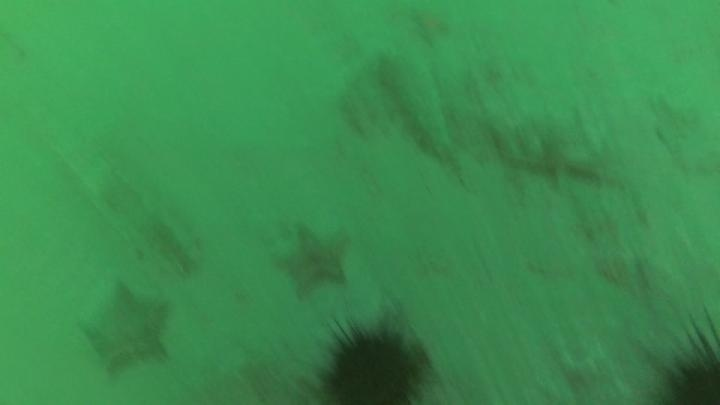echinus: (317, 320, 428, 404), (639, 304, 720, 405)
starfish: (75, 277, 174, 378), (270, 220, 354, 299), (518, 130, 602, 192), (406, 5, 454, 49)
